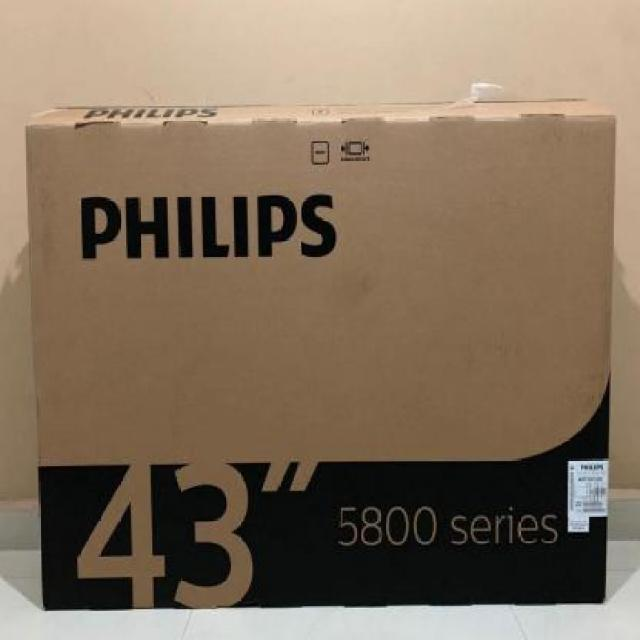box: (26, 98, 612, 607)
